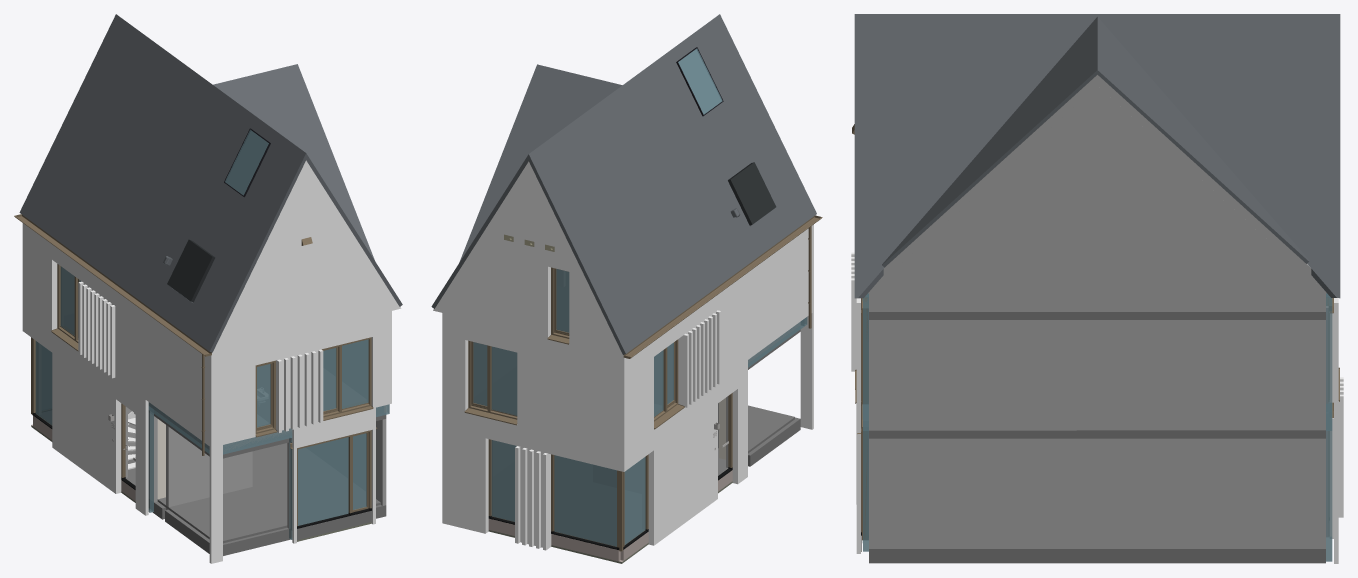
The picture shows the model from 3 angles, left to right: view 1: azimuth 30°, elevation 25°; view 2: azimuth 150°, elevation 25°; view 3: azimuth 270°, elevation 25°; orthographic projection. The views are drawn at different scales.
Parts seen in each view (by area): view 1: Bouwnummer 98 · roof, Bouwnummer 98 · beige, Bouwnummer 98 · beige-vertical, Bouwnummer 98 · glas_helder_plaat_mix, Bouwnummer 98 · Floor_Grey, Bouwnummer 98 · Int_Struc_Wall_Grey, Bouwnummer 98 · hout_meranti_profiel_RAL7039_mix, Bouwnummer 98 · NLRS_h4_aluminium RAL 7039_mix, Bouwnummer 98 · isolatie_glaswol_plaat_mix, Bouwnummer 98 · NLRS_h4_aluminium_RAL7021, Bouwnummer 98 · beton_gewapend_prefab-element_mix, Bouwnummer 98 · NLRS_o7_glas_pv paneel (+1 smaller); view 2: Bouwnummer 98 · roof, Bouwnummer 98 · beige, Bouwnummer 98 · beige-vertical, Bouwnummer 98 · glas_helder_plaat_mix, Bouwnummer 98 · hout_meranti_profiel_RAL7039_mix, Bouwnummer 98 · NLRS_h4_aluminium RAL 7039_mix, Bouwnummer 98 · Floor_Grey, Bouwnummer 98 · NLRS_h4_aluminium_RAL7021, Bouwnummer 98 · beton_generiek_steen_mix, Bouwnummer 98 · NLRS_o7_glas_pv paneel, Bouwnummer 98 · isolatie_glaswol_plaat_mix, Bouwnummer 98 · NLRS_n6_kozijn_kunststof zwart dts; view 3: Bouwnummer 98 · Int_Struc_Wall_Grey, Bouwnummer 98 · roof, Bouwnummer 98 · beton_gewapend_prefab-element_mix, Bouwnummer 98 · Floor_Grey, Bouwnummer 98 · hout_vuren_profiel_tengels_mix, Bouwnummer 98 · beige, Bouwnummer 98 · isolatie_glaswol_plaat_mix, Bouwnummer 98 · isolatie_pir_plaat_mix.
Part boxes in pixels (left/top/right/bottom): Bouwnummer 98 · roof: left=19, top=14, right=402, bottom=352; Bouwnummer 98 · beige: left=22, top=160, right=401, bottom=563; Bouwnummer 98 · beige-vertical: left=22, top=223, right=391, bottom=468; Bouwnummer 98 · glas_helder_plaat_mix: left=35, top=266, right=368, bottom=525; Bouwnummer 98 · Floor_Grey: left=125, top=443, right=386, bottom=555; Bouwnummer 98 · Int_Struc_Wall_Grey: left=125, top=403, right=386, bottom=528; Bouwnummer 98 · hout_meranti_profiel_RAL7039_mix: left=31, top=264, right=371, bottom=526; Bouwnummer 98 · NLRS_h4_aluminium RAL 7039_mix: left=14, top=214, right=373, bottom=455; Bouwnummer 98 · isolatie_glaswol_plaat_mix: left=148, top=402, right=389, bottom=539; Bouwnummer 98 · NLRS_h4_aluminium_RAL7021: left=167, top=239, right=215, bottom=302; Bouwnummer 98 · beton_gewapend_prefab-element_mix: left=149, top=410, right=386, bottom=539; Bouwnummer 98 · NLRS_o7_glas_pv paneel: left=225, top=129, right=268, bottom=195; Bouwnummer 98 · roof: left=431, top=14, right=816, bottom=354; Bouwnummer 98 · beige: left=433, top=161, right=813, bottom=550; Bouwnummer 98 · beige-vertical: left=442, top=224, right=813, bottom=471; Bouwnummer 98 · glas_helder_plaat_mix: left=473, top=269, right=673, bottom=546; Bouwnummer 98 · hout_meranti_profiel_RAL7039_mix: left=468, top=267, right=732, bottom=550; Bouwnummer 98 · NLRS_h4_aluminium RAL 7039_mix: left=464, top=215, right=822, bottom=546; Bouwnummer 98 · Floor_Grey: left=718, top=405, right=800, bottom=475; Bouwnummer 98 · NLRS_h4_aluminium_RAL7021: left=728, top=162, right=776, bottom=225; Bouwnummer 98 · beton_generiek_steen_mix: left=488, top=470, right=732, bottom=562; Bouwnummer 98 · NLRS_o7_glas_pv paneel: left=678, top=48, right=722, bottom=114; Bouwnummer 98 · isolatie_glaswol_plaat_mix: left=748, top=317, right=807, bottom=367; Bouwnummer 98 · NLRS_n6_kozijn_kunststof zwart dts: left=488, top=467, right=732, bottom=550; Bouwnummer 98 · Int_Struc_Wall_Grey: left=869, top=86, right=1325, bottom=548; Bouwnummer 98 · roof: left=854, top=14, right=1340, bottom=298; Bouwnummer 98 · beton_gewapend_prefab-element_mix: left=861, top=312, right=1325, bottom=549; Bouwnummer 98 · Floor_Grey: left=869, top=549, right=1325, bottom=563; Bouwnummer 98 · hout_vuren_profiel_tengels_mix: left=868, top=75, right=1326, bottom=293; Bouwnummer 98 · beige: left=851, top=252, right=1343, bottom=563; Bouwnummer 98 · isolatie_glaswol_plaat_mix: left=862, top=293, right=1332, bottom=561; Bouwnummer 98 · isolatie_pir_plaat_mix: left=1326, top=306, right=1328, bottom=536.
Bounding box in the file's own units: 6.54 × 12.22 × 10.99.
